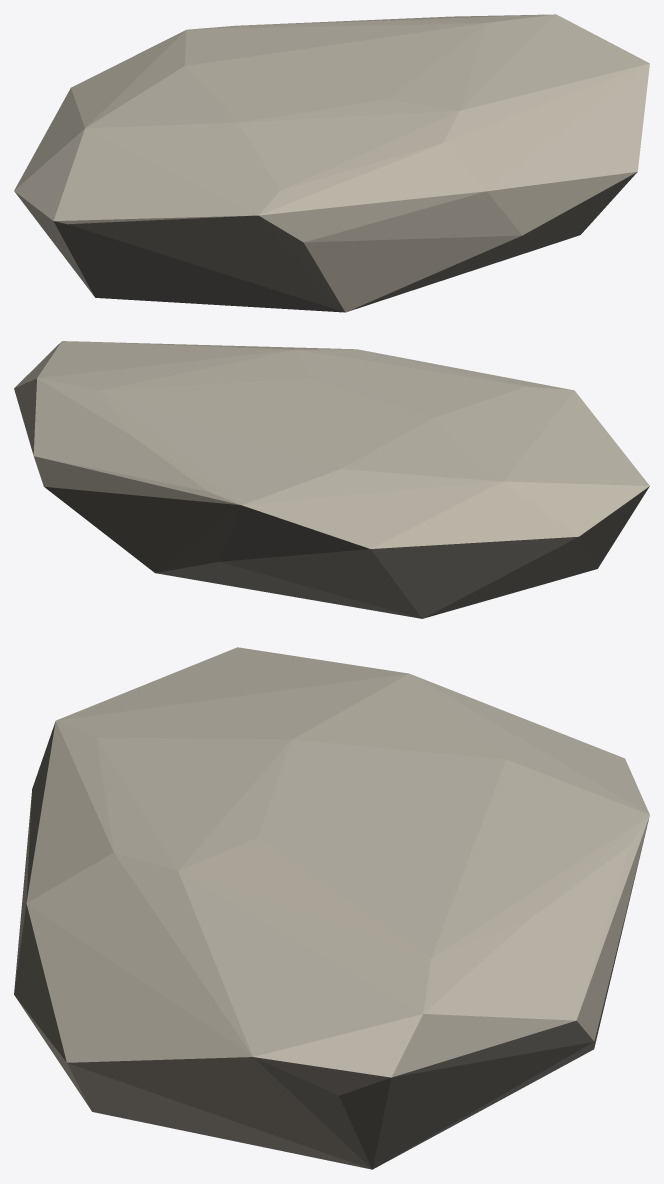
Rendered from rock_slab.glb.
3 renders of one model, top to bottom at view 1: azimuth 30°, elevation 25°; view 2: azimuth 150°, elevation 25°; view 3: azimuth 270°, elevation 25°, orthographic. The views are drawn at different scales.
Parts seen in each view (by area): view 1: LOD0; view 2: LOD0; view 3: LOD0.
Boxes of the visible parts, box(x1,y1,x2,y2) form: LOD0: box(14, 14, 649, 312); LOD0: box(14, 341, 649, 618); LOD0: box(14, 647, 649, 1169).
Size of the model in its own units: 3.33 by 0.6741 by 2.13.
Materials: 1 (1 with a texture image).
